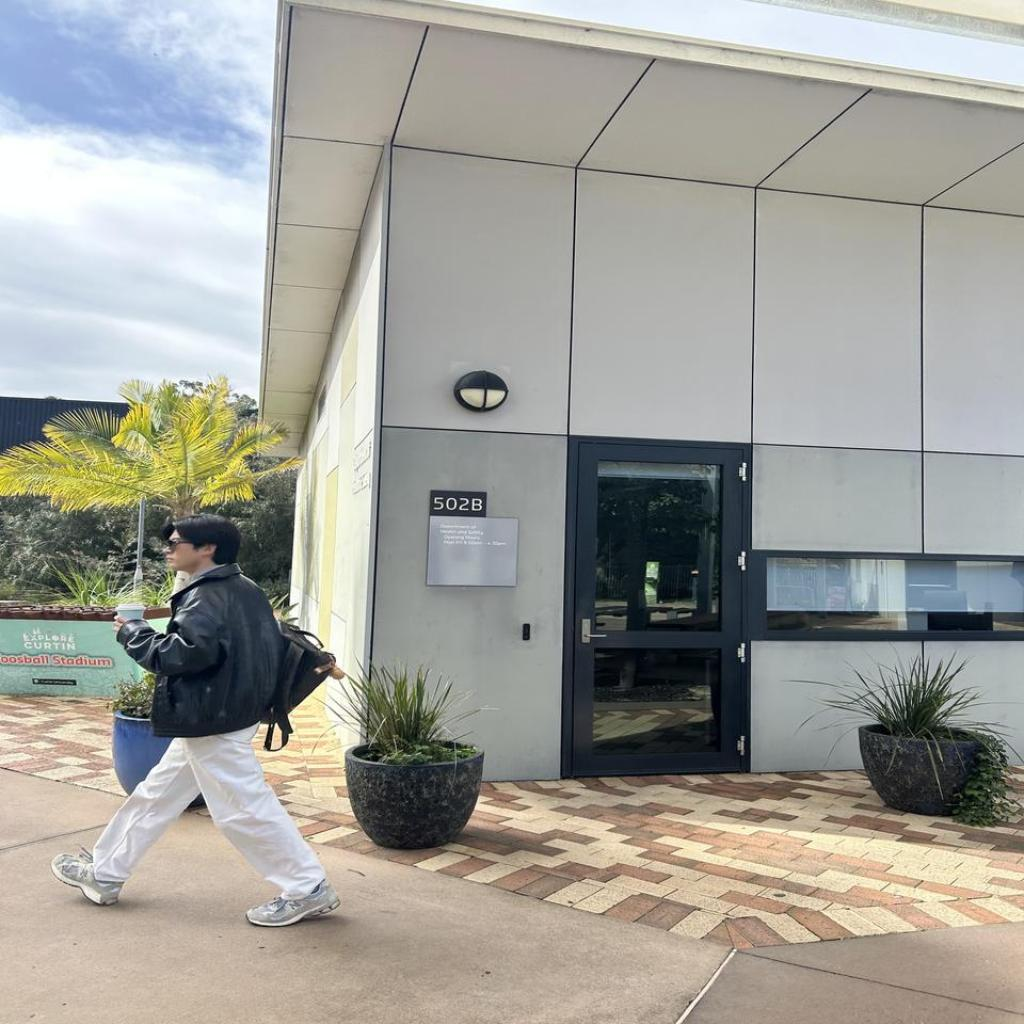BuildingCodes: (432, 496, 484, 512)
